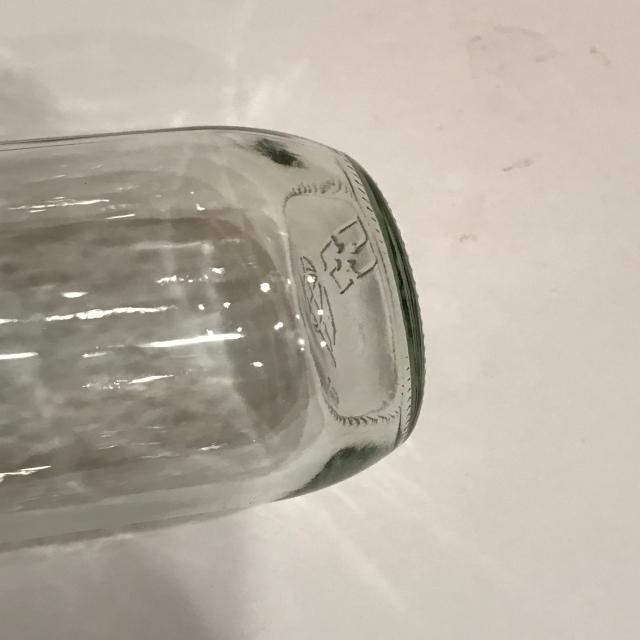glass: (0, 124, 426, 551)
